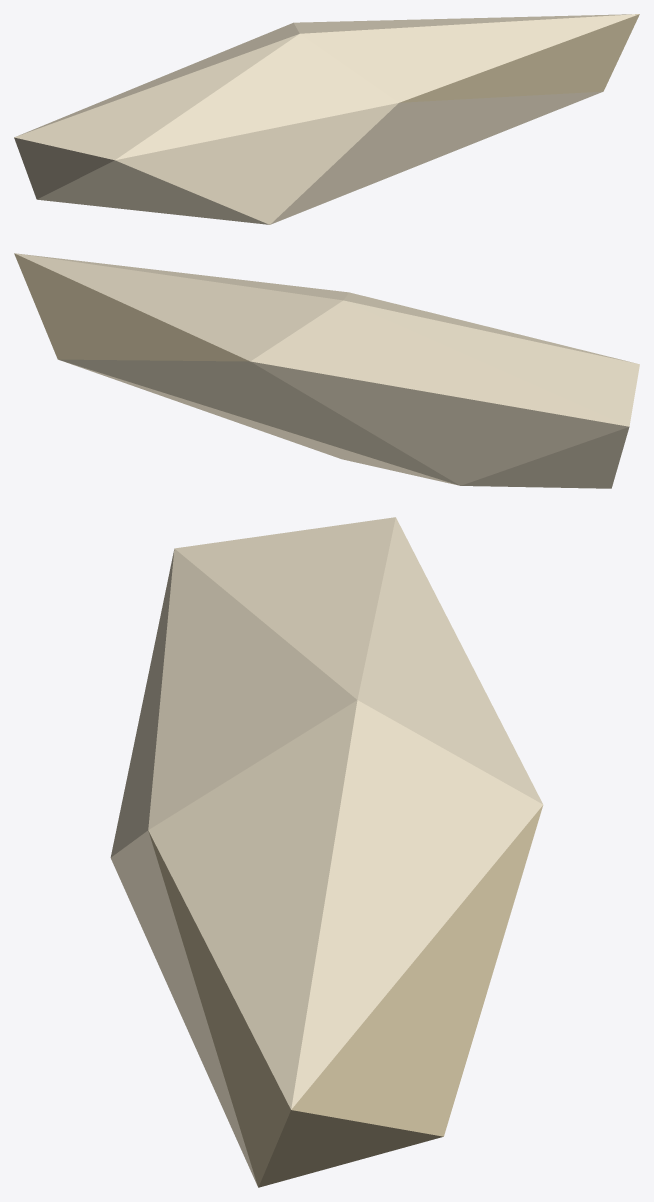
File: bone_shard_3.glb
The picture shows the model from 3 angles, top to bottom: view 1: azimuth 30°, elevation 25°; view 2: azimuth 150°, elevation 25°; view 3: azimuth 270°, elevation 25°; orthographic projection. The views are drawn at different scales.
Visible parts, largest first — view 1: bone_shard_3; view 2: bone_shard_3; view 3: bone_shard_3.
Part boxes in pixels (box(x1,y1,x2,y2)): bone_shard_3: box(14, 14, 639, 224); bone_shard_3: box(14, 253, 639, 488); bone_shard_3: box(110, 517, 543, 1187).
Size of the model in its own units: 0.011 by 0.00251 by 0.00344.
